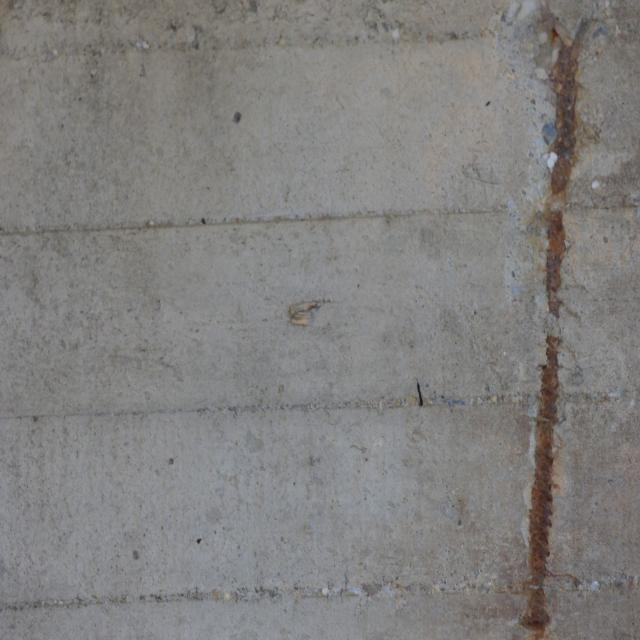corrosion: (511, 33, 591, 640)
